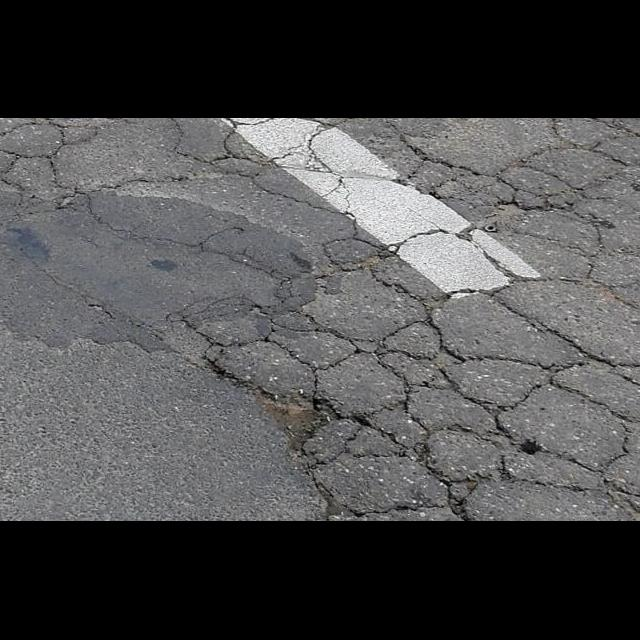retak_kulit_buaya: (207, 252, 640, 521)
